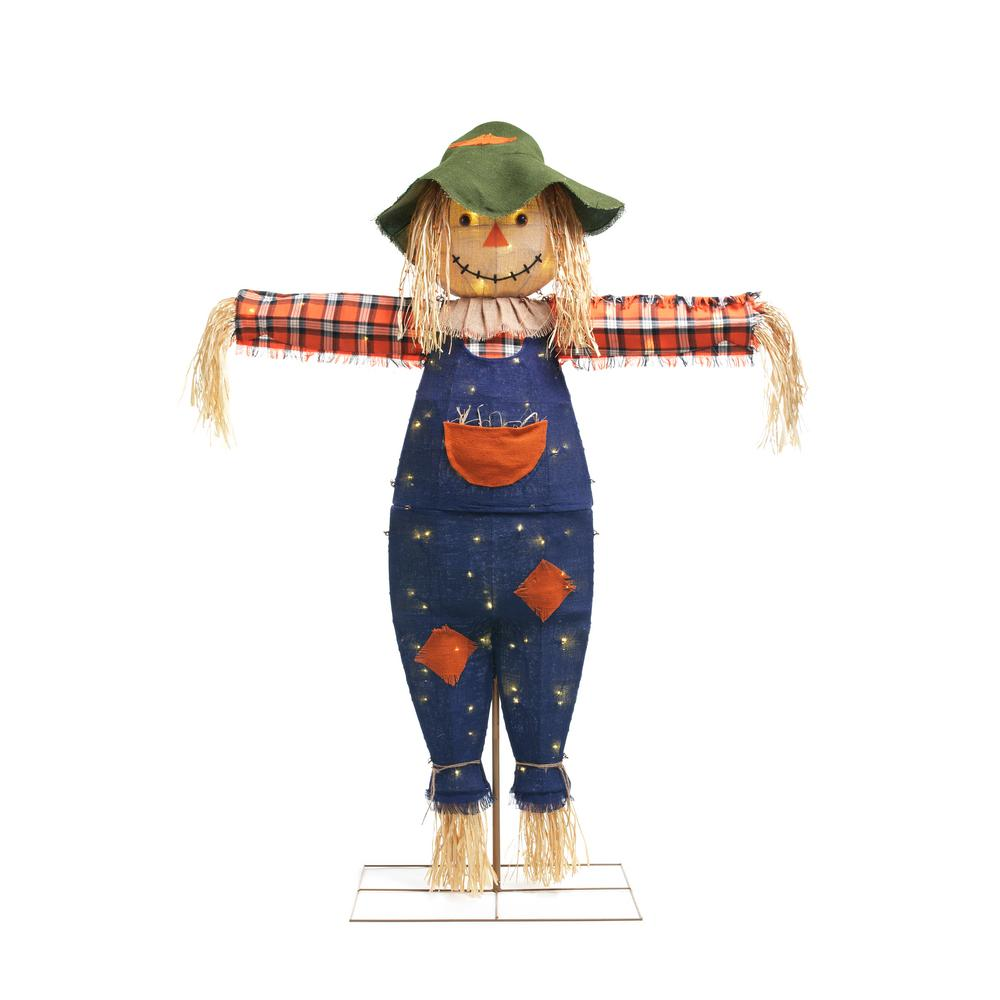person-like: (179, 113, 811, 905)
